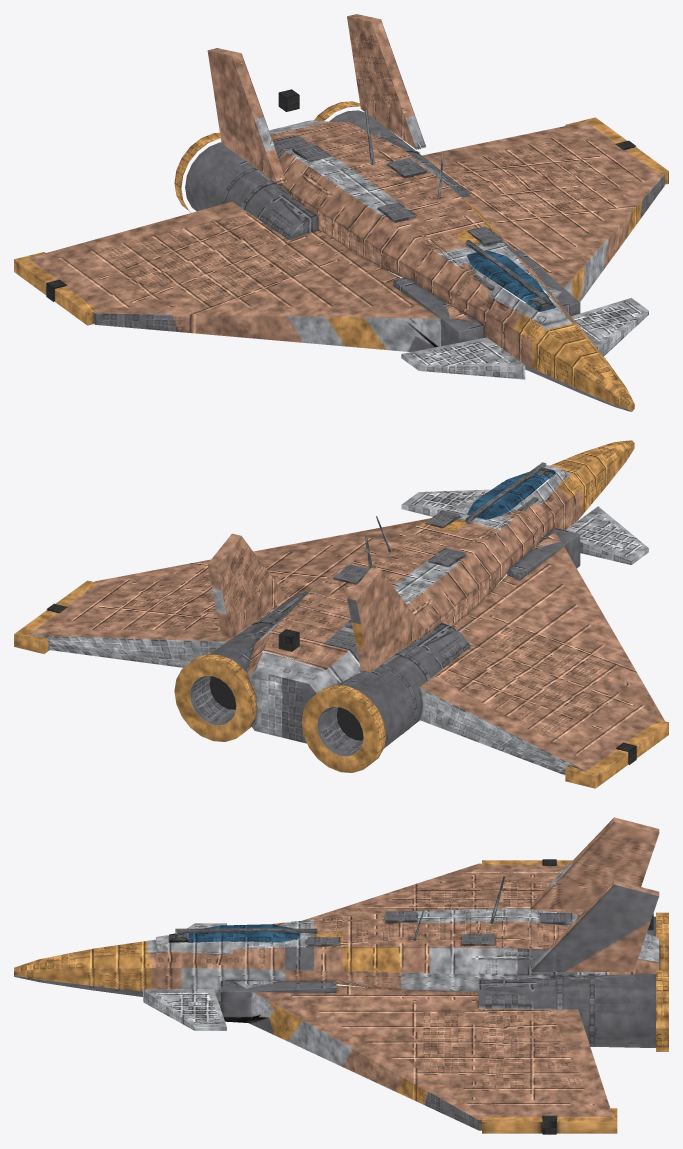
The model's file is sd_npc_raider.glb.
The picture shows the model from 3 angles, top to bottom: view 1: azimuth 30°, elevation 25°; view 2: azimuth 150°, elevation 25°; view 3: azimuth 270°, elevation 25°; orthographic projection. The views are drawn at different scales.
Parts seen in each view (by area): view 1: LOD0_body, LOD1_body; view 2: LOD0_body, LOD1_body; view 3: LOD0_body, LOD1_body.
Boxes of the visible parts, box(x1,y1,x2,y2) form: LOD0_body: box(14, 14, 668, 411); LOD1_body: box(37, 90, 668, 375); LOD0_body: box(14, 440, 668, 788); LOD1_body: box(25, 463, 663, 771); LOD0_body: box(14, 817, 668, 1134); LOD1_body: box(143, 859, 664, 1134).
Size of the model in its own units: 0.9478 by 0.2847 by 1.
Materials: 1 (1 with a texture image).
